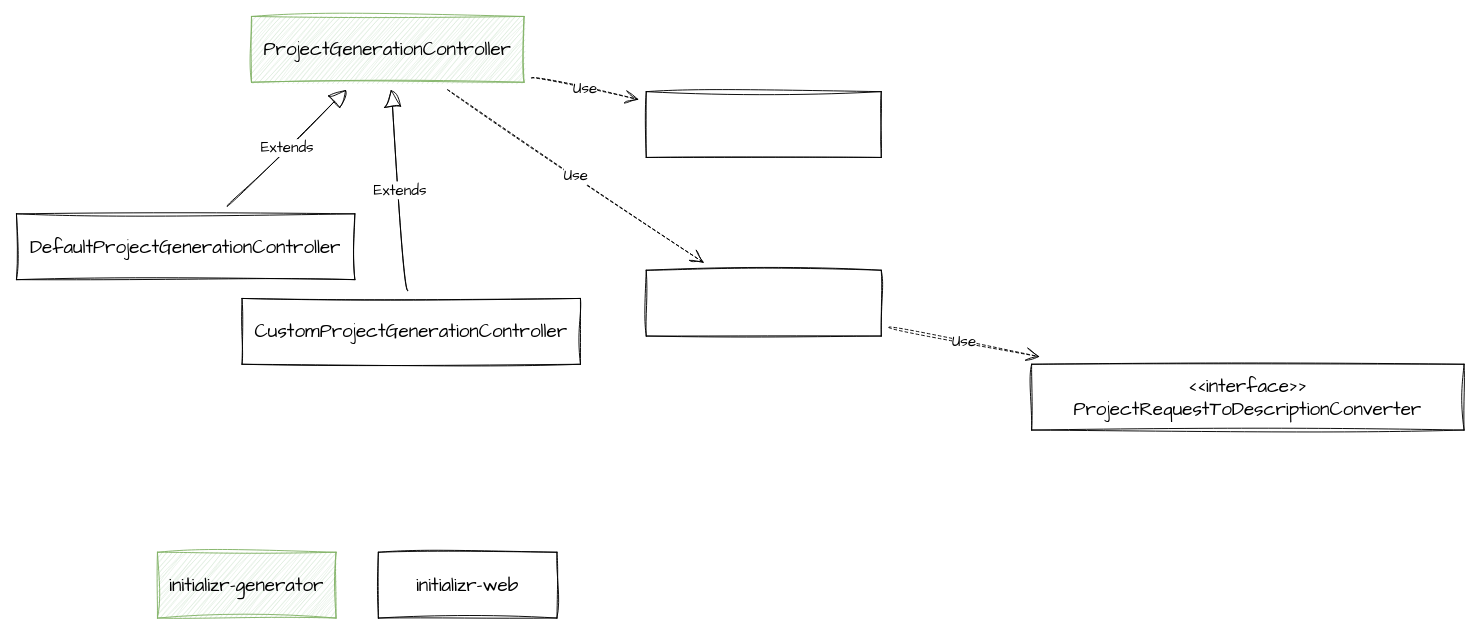
The diagram is 1481 pixels wide and 635 high, and some of its shapes have lost their labels. The centre of each missing label's shape, as x and y in pixels:
<<interface>> InitializrMetadataProvider: the point at 763,124
ProjectGenerationInvoker: the point at 763,302
